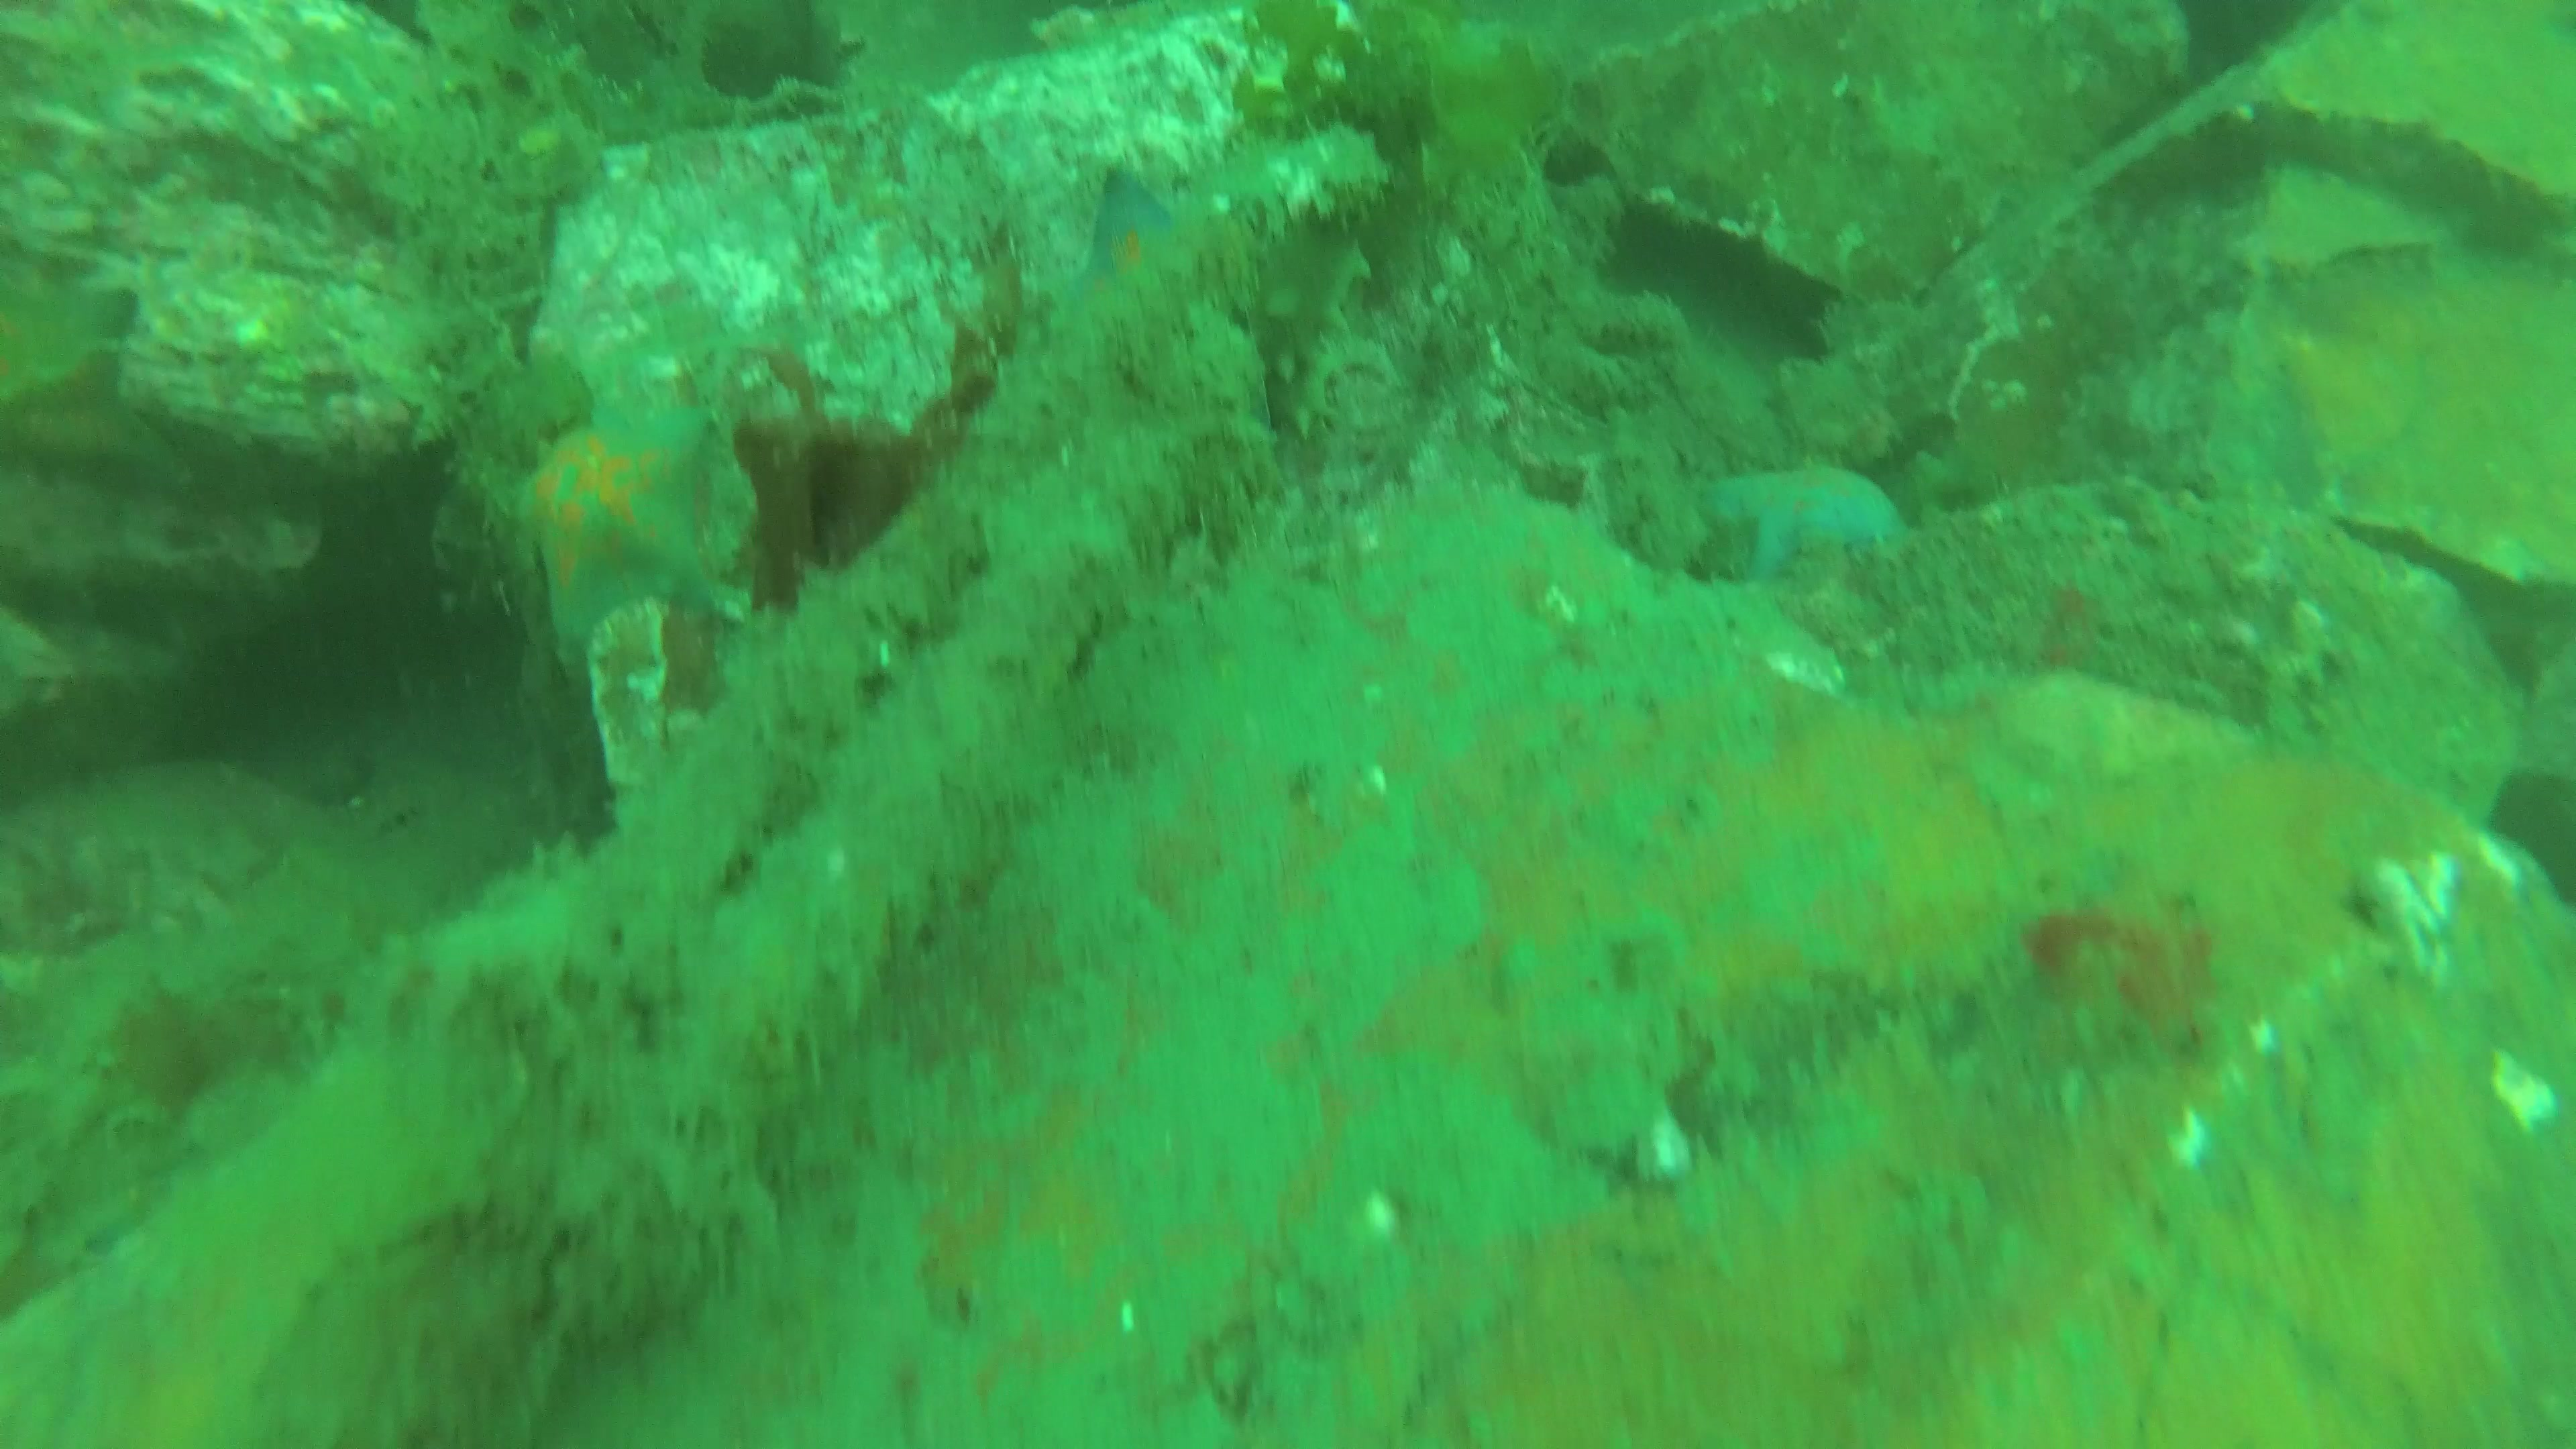holothurian: (1260, 219, 1376, 437)
starfish: (522, 386, 729, 671), (1702, 465, 1902, 582), (1079, 161, 1182, 297)
